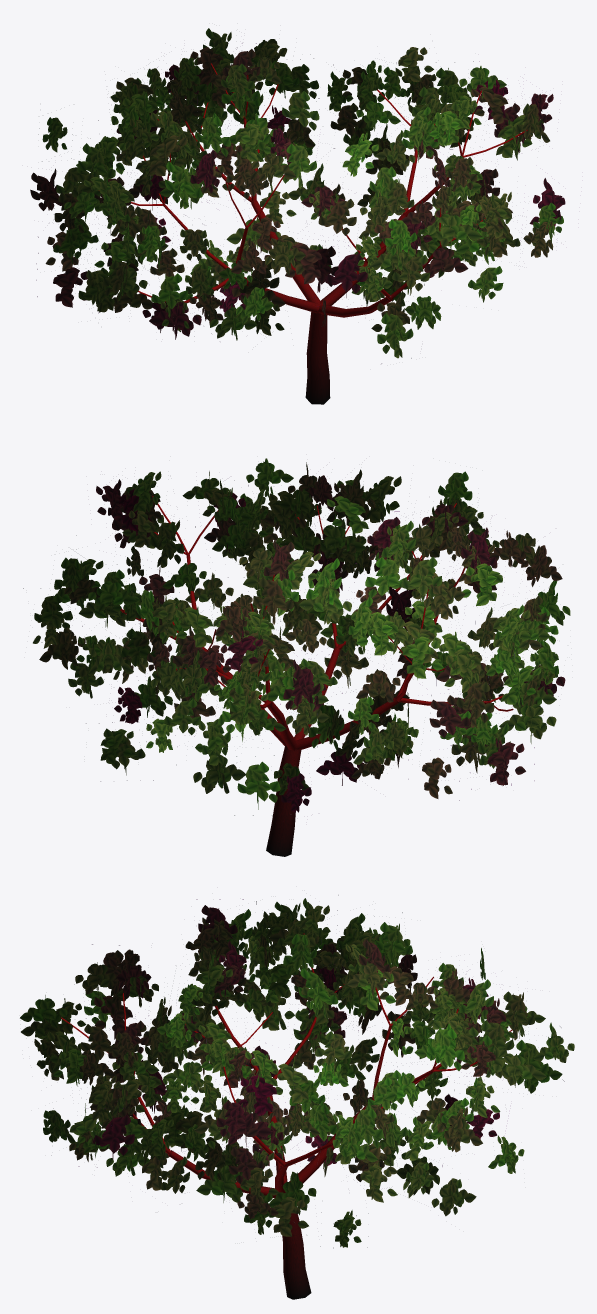
The model's file is beech_b.glb.
3 views of the same model, one above another, from view 1: azimuth 30°, elevation 25°; view 2: azimuth 150°, elevation 25°; view 3: azimuth 270°, elevation 25° (orthographic). The views are drawn at different scales.
Visible parts, largest first — view 1: Beech_B; view 2: Beech_B; view 3: Beech_B.
Boxes of the visible parts, x1,y1,x2,y2 form: Beech_B: [30, 28, 565, 404]; Beech_B: [23, 458, 570, 856]; Beech_B: [20, 895, 574, 1299].
Bounding box in the file's own units: 18.57 × 12.79 × 19.31.
1 material, 1 textured.
